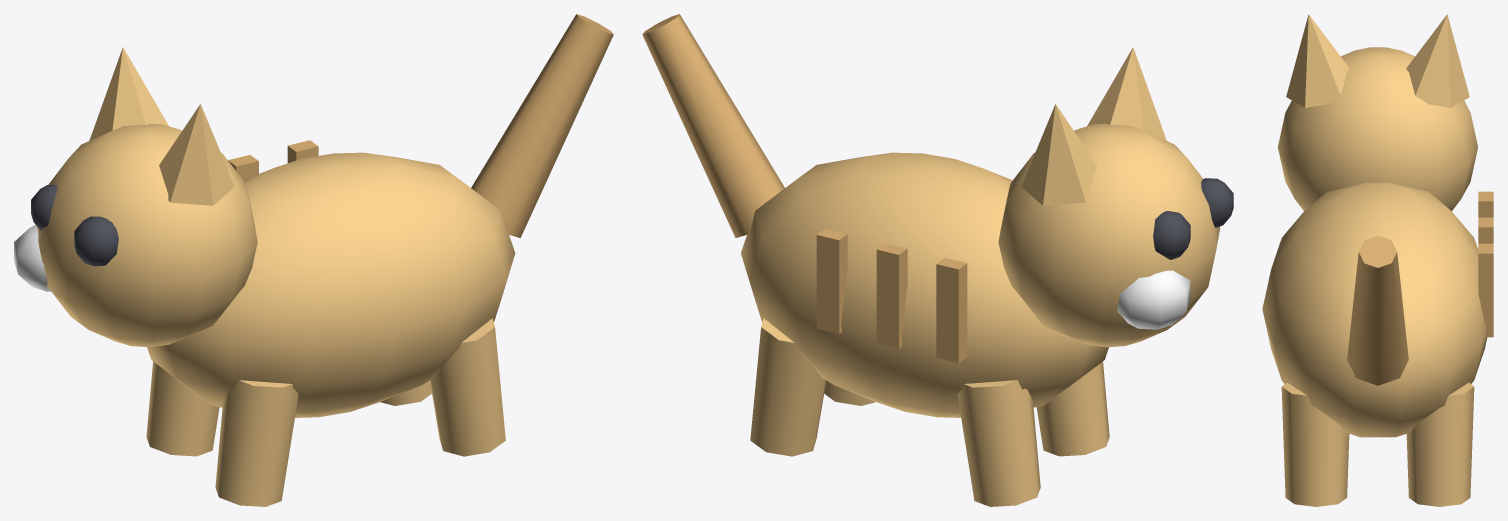
Rendered from Cat.fbx.
3 views of the same model, side by side, from view 1: azimuth 30°, elevation 25°; view 2: azimuth 150°, elevation 25°; view 3: azimuth 270°, elevation 25° (orthographic). The views are drawn at different scales.
Visible parts, largest first — view 1: Cat; view 2: Cat; view 3: Cat.
Boxes of the visible parts, x1,y1,x2,y2 form: Cat: (14,14,613,506); Cat: (642,14,1233,506); Cat: (1262,14,1493,506).
Bounding box in the file's own units: 0.7586 × 0.5253 × 0.3.
